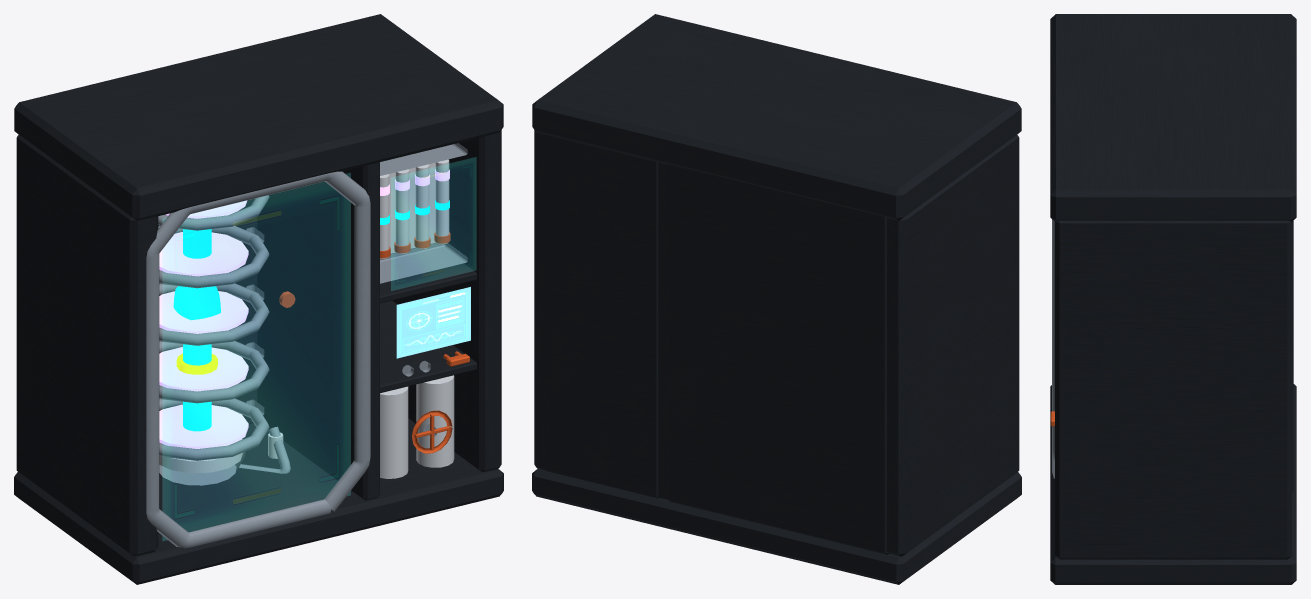
File: reactor_core_winner_01_dual_zone_plasma_cryo_bay.glb
The picture shows the model from 3 angles, left to right: view 1: azimuth 30°, elevation 25°; view 2: azimuth 150°, elevation 25°; view 3: azimuth 270°, elevation 25°; orthographic projection.
Parts seen in each view (by area): view 1: Reactor02_SplitBayGunmetalVessel, Reactor02_TranslucentRadiationShields, Reactor02_ToroidalCoilsCryoPipesAndBezel, Reactor02_WhiteModeratorRodsAndDewars, Reactor02_UVFieldCoilsAndModeratorTips, Reactor02_RightBayOLEDTelemetryConsole, Reactor02_CyanPlasmaSpindleCore, Reactor02_SignalOrangeSCRAMAndCryoWheel; view 2: Reactor02_SplitBayGunmetalVessel; view 3: Reactor02_SplitBayGunmetalVessel, Reactor02_ToroidalCoilsCryoPipesAndBezel.
Part boxes in pixels (box(x1,y1,x2,y2)): Reactor02_SplitBayGunmetalVessel: box(14, 14, 503, 584); Reactor02_TranslucentRadiationShields: box(163, 157, 475, 540); Reactor02_ToroidalCoilsCryoPipesAndBezel: box(146, 143, 467, 548); Reactor02_WhiteModeratorRodsAndDewars: box(159, 159, 454, 478); Reactor02_UVFieldCoilsAndModeratorTips: box(159, 169, 449, 448); Reactor02_RightBayOLEDTelemetryConsole: box(396, 287, 470, 358); Reactor02_CyanPlasmaSpindleCore: box(173, 200, 449, 431); Reactor02_SignalOrangeSCRAMAndCryoWheel: box(279, 232, 469, 453); Reactor02_SplitBayGunmetalVessel: box(532, 14, 1021, 584); Reactor02_SplitBayGunmetalVessel: box(1050, 14, 1296, 584); Reactor02_ToroidalCoilsCryoPipesAndBezel: box(1052, 219, 1054, 478).
Size of the model in its own units: 2.6 by 2.65 by 1.5.
Materials: 9 (9 with a texture image).
